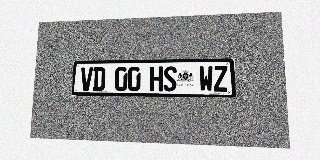0: (115, 67, 128, 91), (128, 67, 141, 91)
D: (92, 67, 105, 91)
H: (150, 66, 163, 91)
S: (163, 66, 177, 91)
V: (80, 67, 93, 91)
W: (199, 66, 213, 92)
Z: (213, 66, 228, 92)
